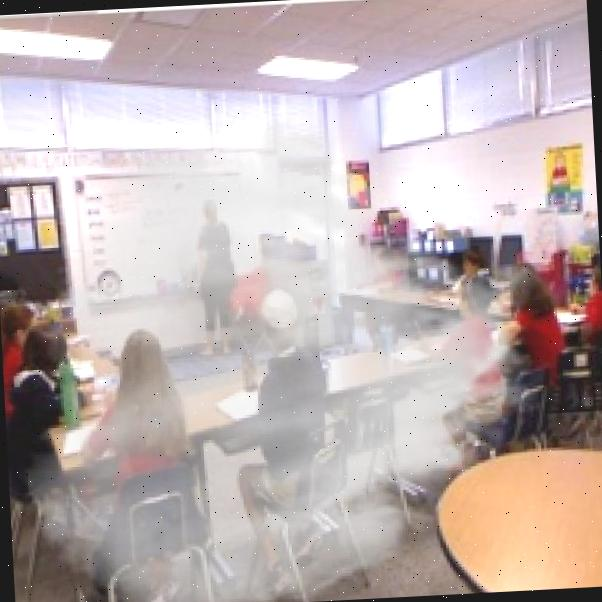smoke: (3, 97, 563, 602)
